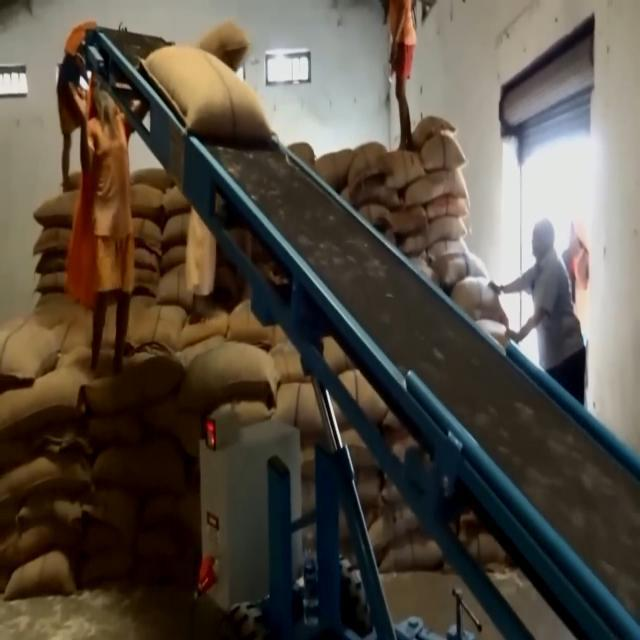gunny_bag: (134, 40, 278, 150), (76, 354, 176, 432), (184, 339, 282, 412), (85, 428, 183, 500), (0, 370, 86, 437), (0, 314, 74, 388), (0, 454, 96, 501), (7, 550, 82, 599), (168, 303, 232, 351), (406, 169, 472, 209), (410, 216, 470, 252), (436, 252, 492, 290), (346, 138, 392, 184), (382, 148, 423, 195), (420, 137, 467, 176), (399, 116, 464, 144)
